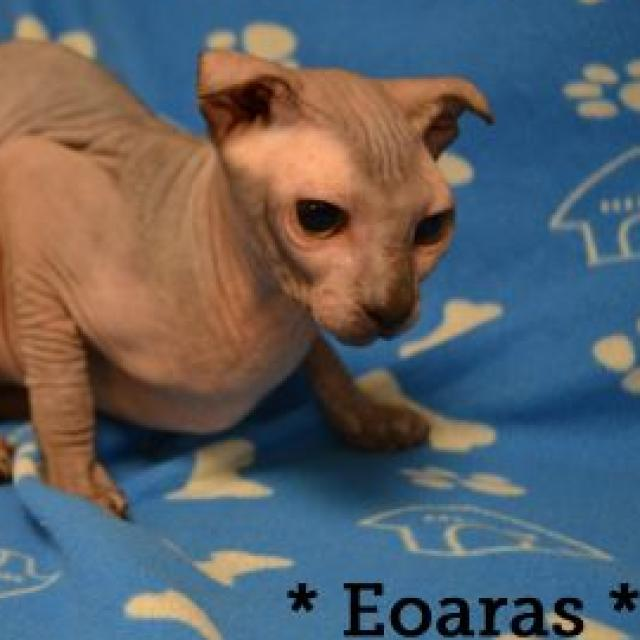Sphynx: (0, 32, 498, 522)
